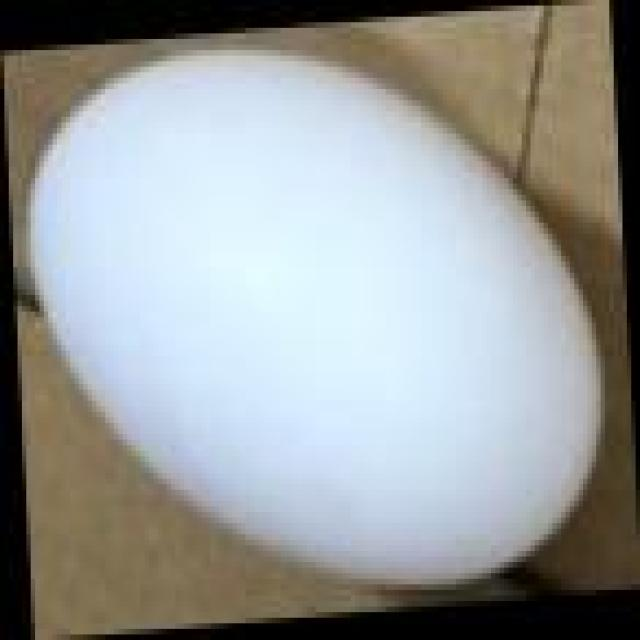Egg: (14, 32, 615, 599)
